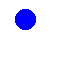circle: (15, 9, 35, 29)
